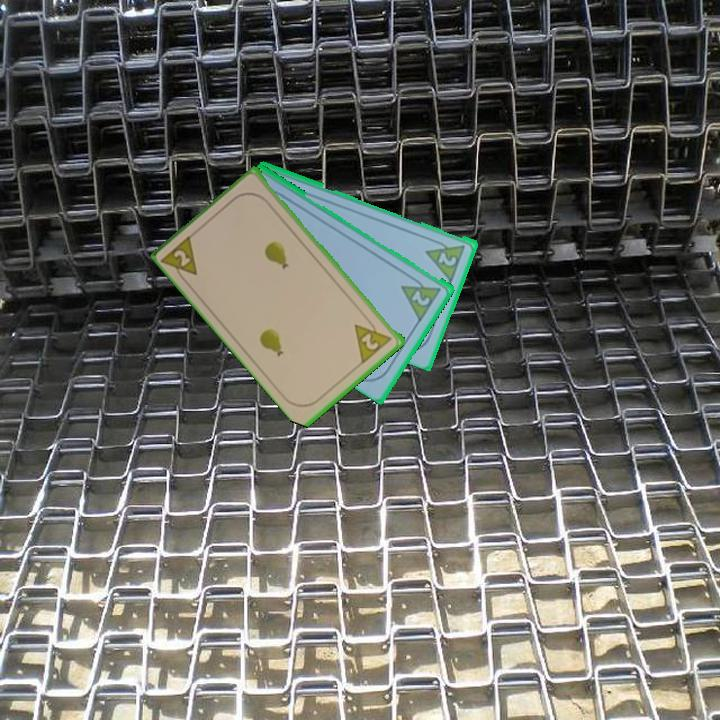2p: (159, 231, 201, 287), (351, 314, 395, 366), (408, 287, 433, 309), (435, 248, 460, 269)
